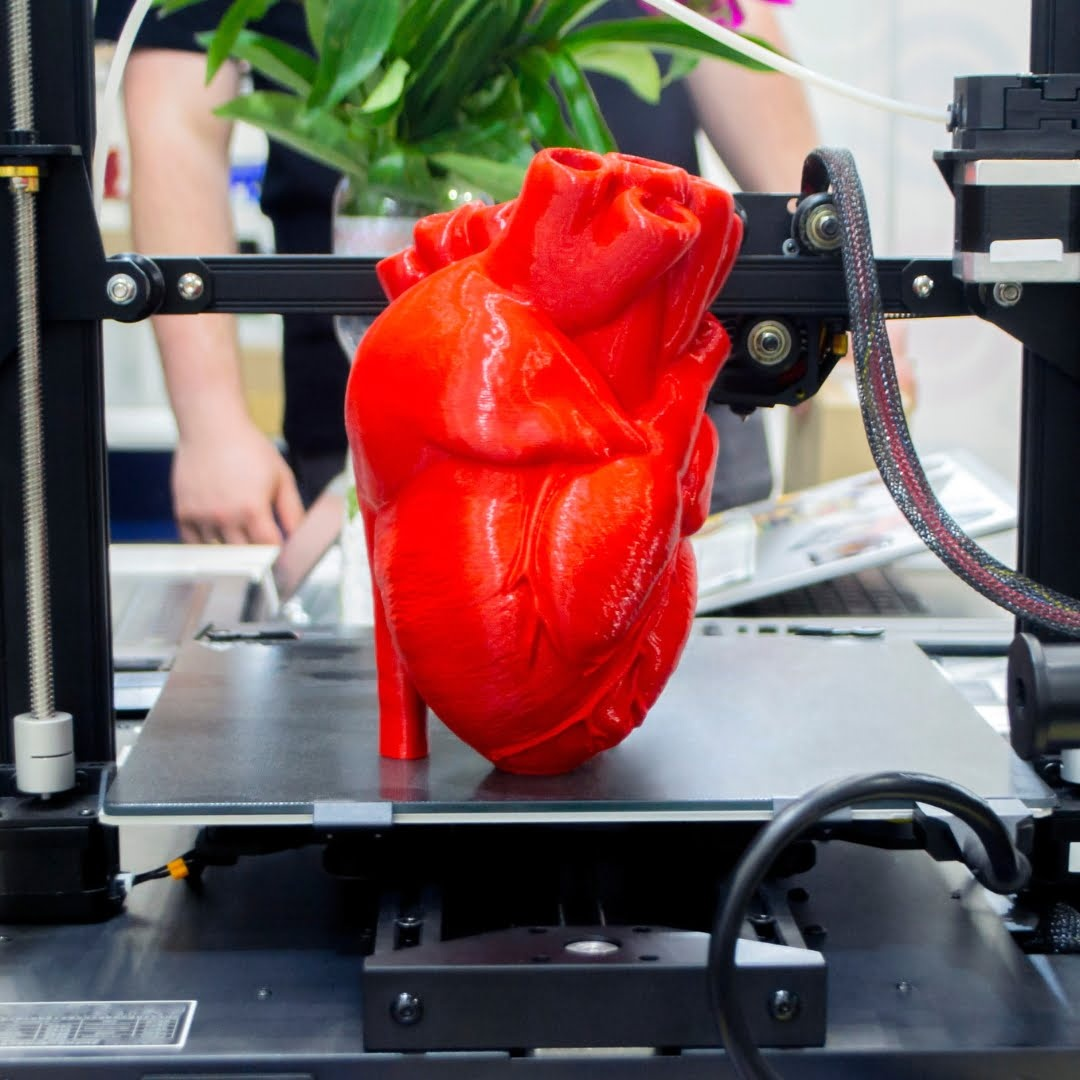3d print: (347, 149, 741, 773)
